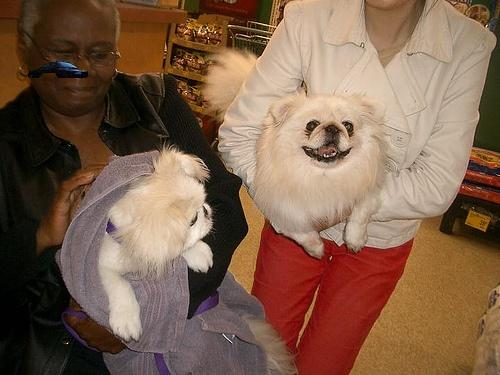tampered: (29, 62, 88, 78)
